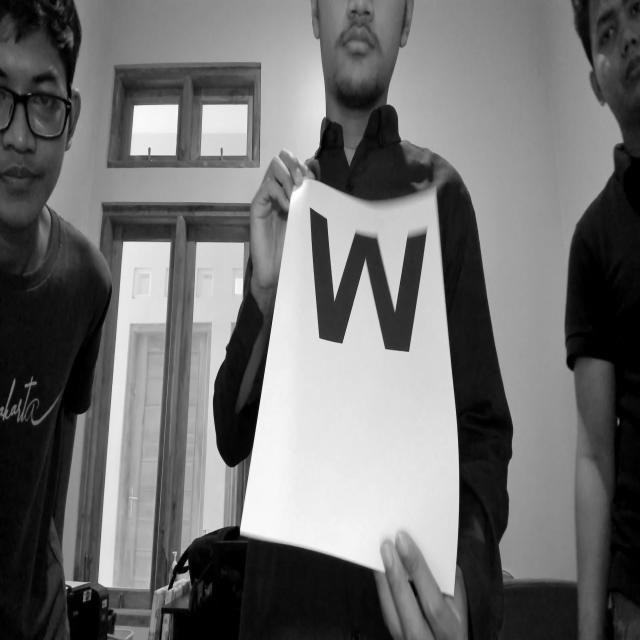w: (303, 192, 442, 372)
